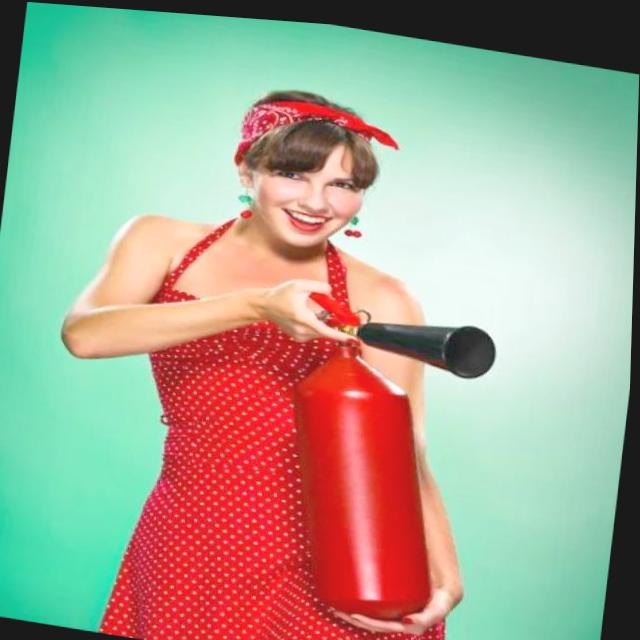FireExtinguisher: (237, 276, 507, 632)
